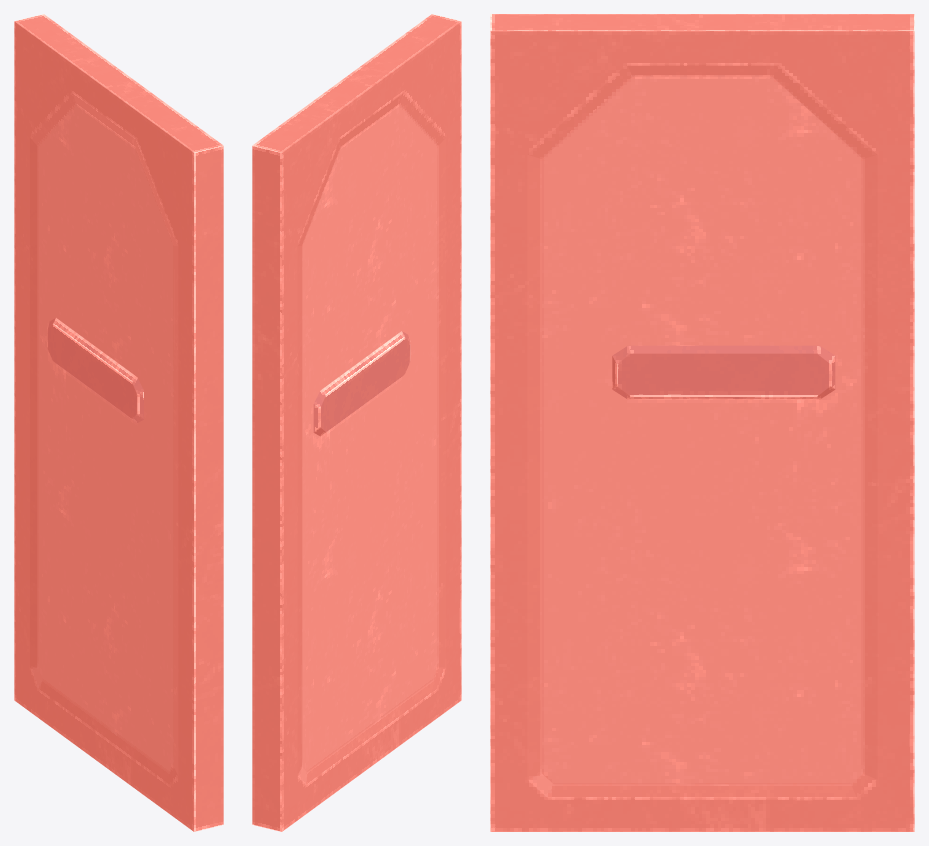
Rendered from DoorClosed.glb.
3 views of the same model, side by side, from view 1: azimuth 30°, elevation 25°; view 2: azimuth 150°, elevation 25°; view 3: azimuth 270°, elevation 25° (orthographic). The views are drawn at different scales.
Visible parts, largest first — view 1: Door Closed-col; view 2: Door Closed-col; view 3: Door Closed-col.
Part boxes in pixels (x1,y1,x2,y2): Door Closed-col: (14, 14, 223, 831); Door Closed-col: (252, 14, 461, 831); Door Closed-col: (490, 14, 914, 831).
Size of the model in its own units: 0.106 by 1.96 by 0.9418.
Materials: 1 (1 with a texture image).
